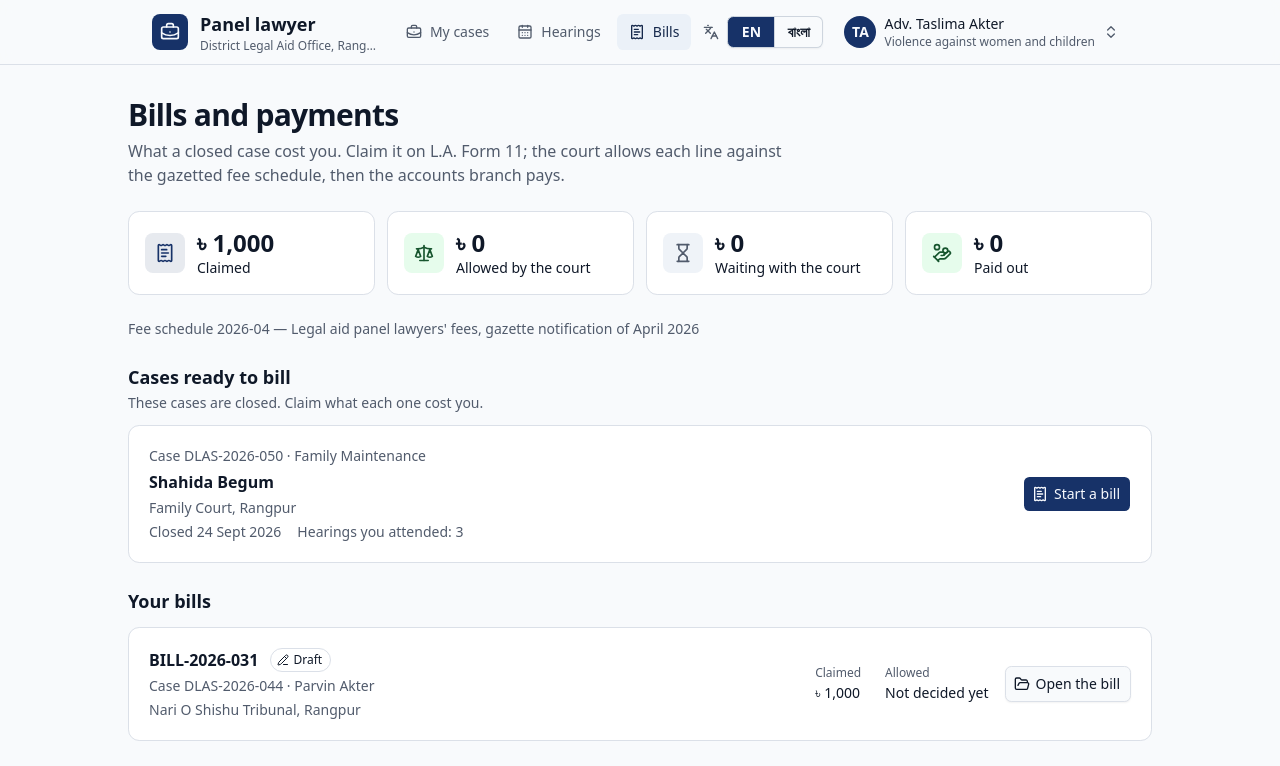
it: the Bill Gadget with a backend (VITE_API_URL) › opens a bill for a closed case with the court the case was in
Click the button with aria-label "Start a bill: Shahida Begum": [1077, 494] box [1023,476,1131,512]
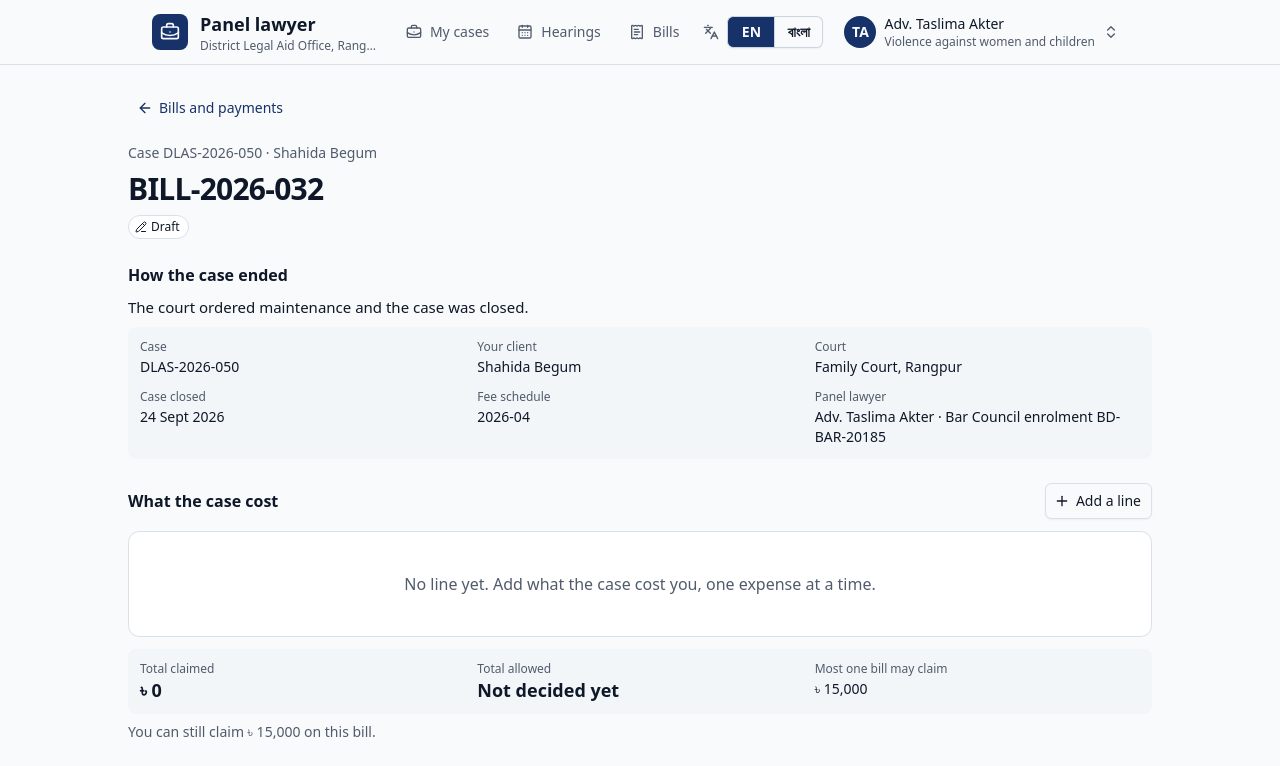
Expected: the text "Family Court, Rangpur" is shown, [815,357,962,376]
Expected: the heading "BILL-2026-032" is shown, [128,168,323,209]
